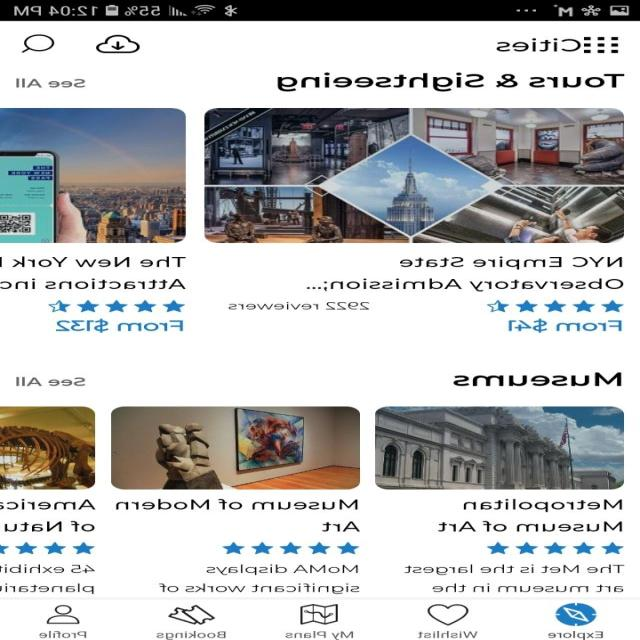Icon: (487, 541, 625, 554), (49, 299, 187, 312), (487, 299, 625, 312), (222, 542, 360, 554), (1, 541, 96, 554), (556, 602, 598, 626), (169, 604, 216, 624), (428, 603, 470, 625), (96, 34, 142, 54), (300, 603, 338, 624), (47, 604, 81, 624), (22, 34, 56, 53), (583, 37, 618, 54)
Image: (204, 107, 624, 243), (1, 107, 187, 243), (111, 406, 361, 489), (375, 406, 625, 489), (1, 406, 97, 489)
Text: (306, 256, 624, 292), (116, 498, 361, 532), (277, 72, 625, 91), (1, 256, 187, 290), (438, 498, 622, 532), (404, 564, 626, 592), (159, 564, 360, 594), (1, 498, 97, 532), (1, 563, 96, 594), (453, 372, 622, 386), (56, 318, 184, 333), (510, 318, 622, 332), (228, 301, 370, 310), (496, 38, 582, 52), (16, 78, 86, 87), (156, 630, 226, 639), (17, 377, 86, 386), (285, 630, 354, 639), (548, 630, 602, 640), (418, 630, 478, 638), (40, 630, 88, 638)
